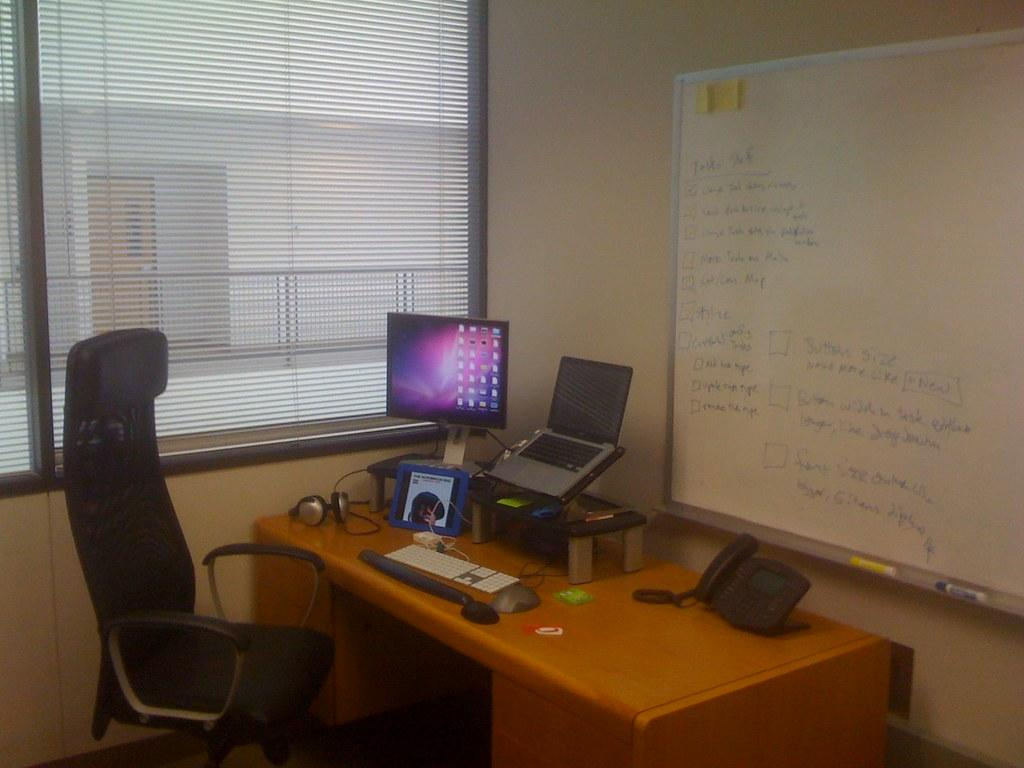computer: (367, 311, 510, 512), (486, 355, 634, 505)
